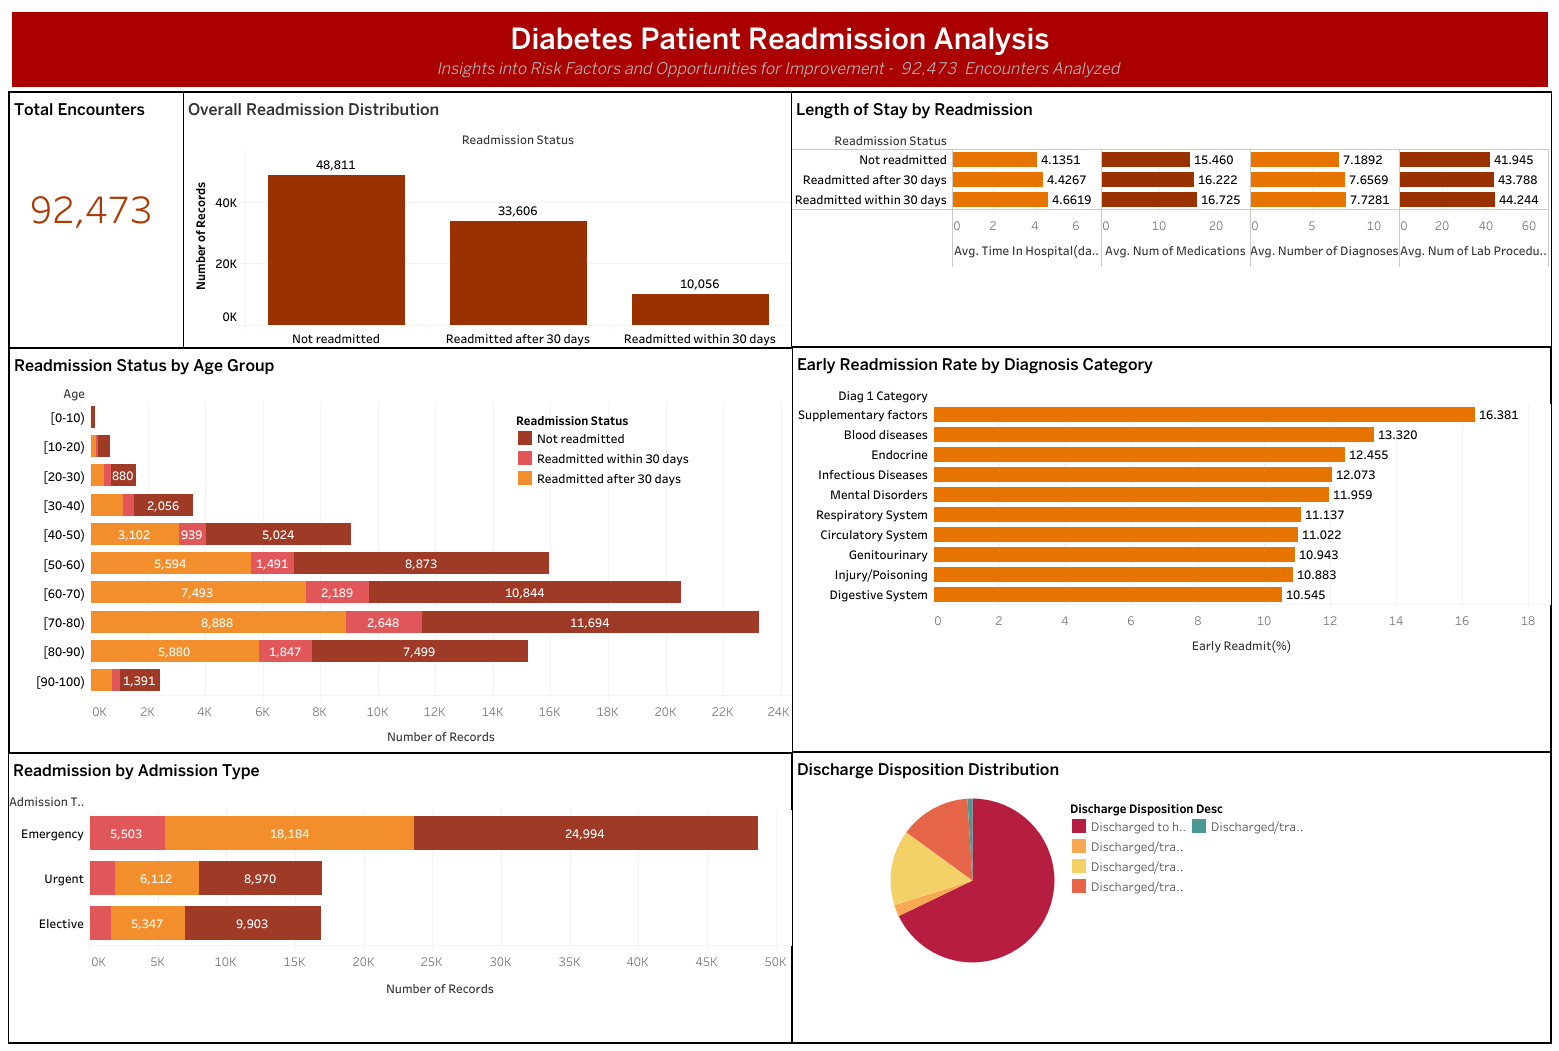

The dashboard page shown, as its layout file describes it:
{"tool":"tableau","page":{"name":"Dashboard 1","canvas":[1560,1052],"ordinal":0},"visuals":[{"type":"title","box":[8,8,1544,83]},{"type":"worksheet","title":"KPI- Total encounters","mark":"Automatic","box":[9,92,175,256]},{"type":"worksheet","title":"Readmission Overview","mark":"Automatic","rows":["Calculation_0931588739915776"],"cols":["readmission_status"],"box":[183,92,609,256]},{"type":"worksheet","title":"Length of Stay by Readmission","mark":"Automatic","rows":["readmission_status"],"cols":["time_in_hospital","num_medications","number_diagnoses","num_lab_procedures"],"box":[791,92,761,255]},{"type":"worksheet","title":"Readmission rate pri diag","mark":"Automatic","rows":["diag_1_category"],"cols":["Calculation_1129225993256960"],"box":[792,347,759,405]},{"type":"worksheet","title":"Readmission Vs Age","mark":"Automatic","rows":["age"],"cols":["Calculation_0931588739915776"],"box":[9,348,784,405]},{"type":"legend","title":"Readmission Vs Age","param":"[federated.01gj21w0pzzgp91aki9ou0bywqqj].[none:readmission_status:nk]","box":[515,409,239,125]},{"type":"worksheet","title":"Discharge Disposition Dist","mark":"Pie","box":[792,752,759,291]},{"type":"worksheet","title":"Readmission by Adm type","mark":"Automatic","rows":["admission_type_desc"],"cols":["Calculation_0931588739915776"],"box":[8,753,784,290]},{"type":"legend","title":"Discharge Disposition Dist","param":"[federated.01gj21w0pzzgp91aki9ou0bywqqj].[none:discharge_disposition_desc:nk]","box":[1069,797,477,118]}]}

Visuals, with their boxes in screenshot pixels (x1, y1, x2, y2), scaled from the page's 1560x1052 canvas onto the 1559x1051 screenshot:
title: [8,8,1551,91]
"KPI- Total encounters" worksheet: [9,92,184,348]
"Readmission Overview" worksheet: [183,92,791,348]
"Length of Stay by Readmission" worksheet: [790,92,1551,347]
"Readmission rate pri diag" worksheet: [791,347,1550,751]
"Readmission Vs Age" worksheet: [9,348,792,752]
"Readmission Vs Age" legend: [515,409,754,533]
"Discharge Disposition Dist" worksheet (Pie marks): [791,751,1550,1042]
"Readmission by Adm type" worksheet: [8,752,791,1042]
"Discharge Disposition Dist" legend: [1068,796,1545,914]
